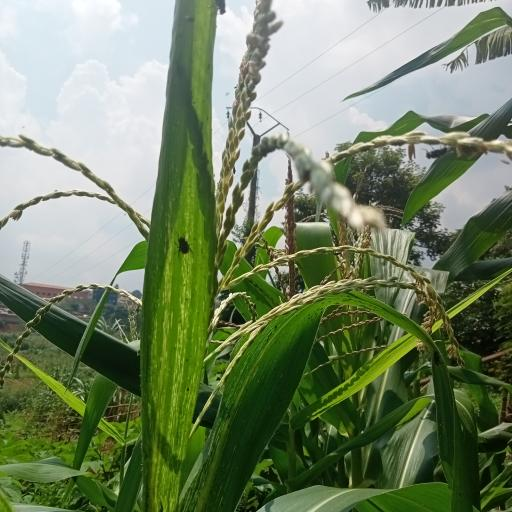Corn_Streak: (148, 0, 224, 511)
